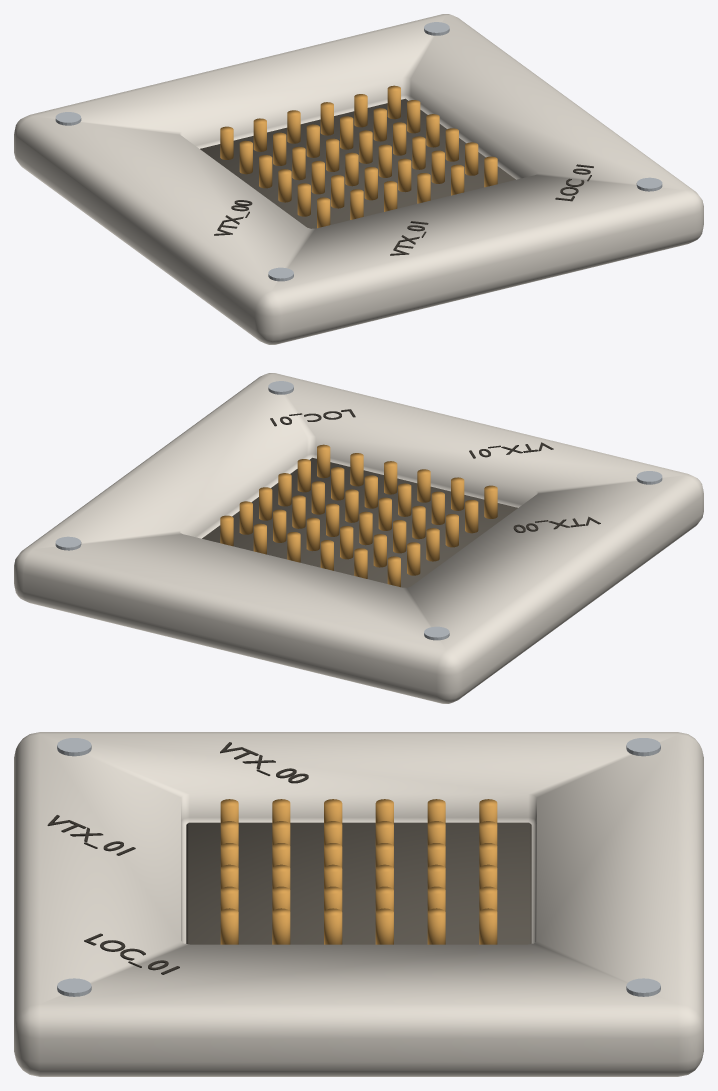
File: vk_vertex_layout.glb
3 renders of one model, top to bottom at view 1: azimuth 30°, elevation 25°; view 2: azimuth 150°, elevation 25°; view 3: azimuth 270°, elevation 25°, orthographic. The views are drawn at different scales.
Visible parts, largest first — view 1: SocketPlate, SocketFloor; view 2: SocketPlate, SocketFloor; view 3: SocketPlate, SocketFloor, Lbl_VTX00, GoldPin_5_2, GoldPin_5_3, GoldPin_5_0, GoldPin_5_1, GoldPin_5_4, GoldPin_5_5, Lbl_LOC01, Lbl_VTX01, Cylinder.002 (+3 smaller).
Boxes of the visible parts, x1=… form: SocketPlate: x1=14, y1=14, x2=703, y2=344; SocketFloor: x1=200, y1=98, x2=515, y2=228; SocketPlate: x1=14, y1=373, x2=703, y2=703; SocketFloor: x1=202, y1=457, x2=517, y2=587; SocketPlate: x1=14, y1=732, x2=703, y2=1076; SocketFloor: x1=186, y1=822, x2=531, y2=944; Lbl_VTX00: x1=220, y1=742, x2=308, y2=783; GoldPin_5_2: x1=324, y1=908, x2=342, y2=944; GoldPin_5_3: x1=375, y1=908, x2=393, y2=944; GoldPin_5_0: x1=220, y1=908, x2=238, y2=944; GoldPin_5_1: x1=272, y1=908, x2=290, y2=944; GoldPin_5_4: x1=427, y1=908, x2=445, y2=944; GoldPin_5_5: x1=479, y1=908, x2=497, y2=944; Lbl_LOC01: x1=84, y1=933, x2=179, y2=974; Lbl_VTX01: x1=47, y1=815, x2=135, y2=855; Cylinder.002: x1=57, y1=978, x2=91, y2=996.
Bounding box in the file's own units: 3.2 × 0.42 × 3.2.
